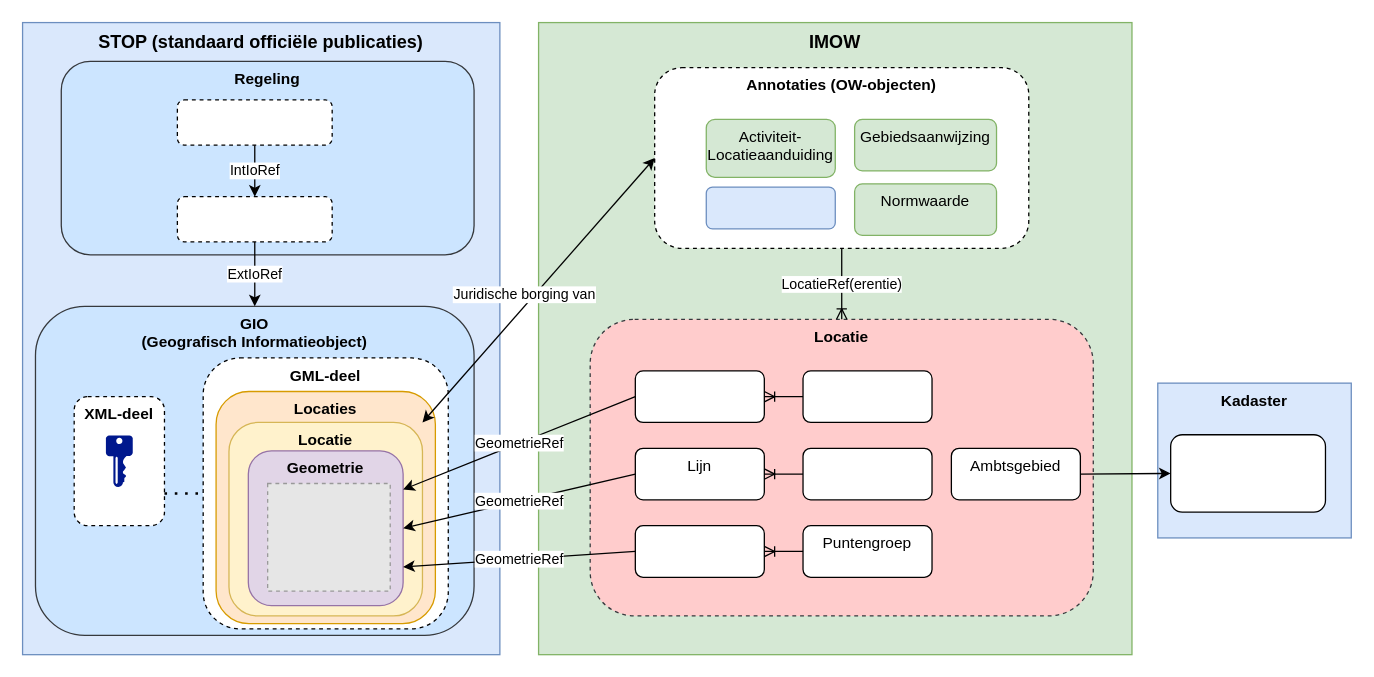
The diagram is 1374 pixels wide and 677 high, and some of its shapes have lost their labels. Grey dashed boxes stand in for pictures. Here are the shapes that lost their labels. From the top down, the centre of each, then its label:
At point 254,122: "Lichaam".
At point 254,218: "Bijlage".
At point 770,207: "Juridische Regel".
At point 699,396: "Gebied".
At point 867,396: "Gebiedengroep".
At point 118,460: "hash".
At point 867,473: "Lijnengroep".
At point 1247,472: "BestuurlijkeGrenzen-Voorziening".
At point 699,550: "Punt".
